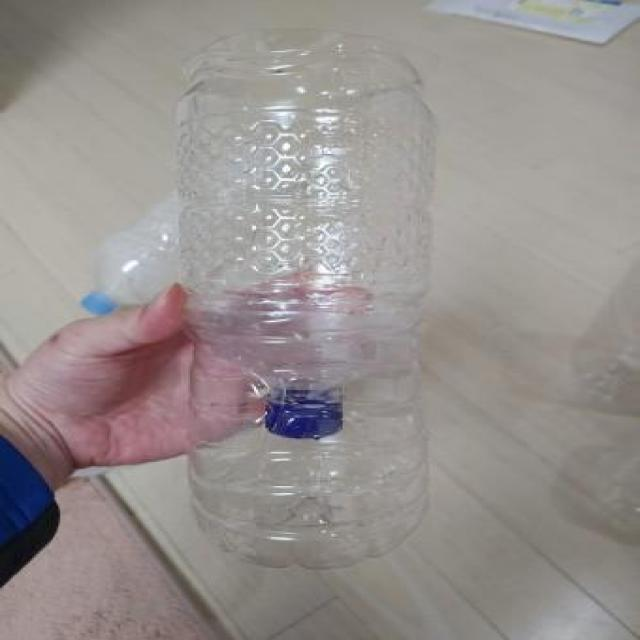bottle: (153, 0, 445, 620)
